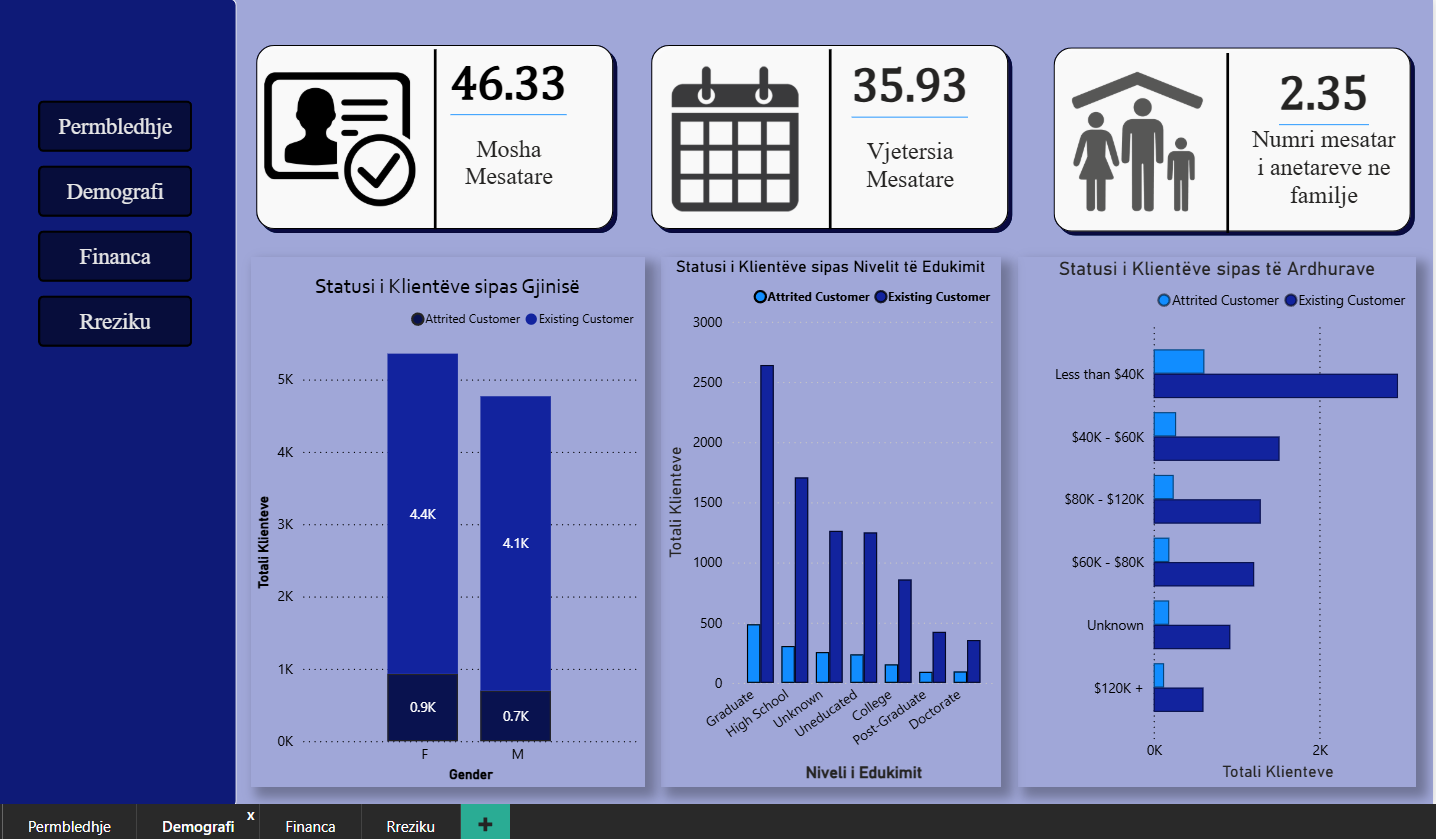

The dashboard page shown, as its layout file describes it:
{"tool":"powerbi","page":{"name":"Demografi","canvas":[1280,720],"ordinal":1},"visuals":[{"type":"group","id":"g1","title":"Group 1","box":[0,0,215.7,720],"z":0},{"type":"shape","box":[0,0,216.7,720.2],"z":0,"group":"g1"},{"type":"group","id":"g2","title":"Group 3","box":[228.8,36.2,327.5,173.8],"z":0,"group":"g6"},{"type":"group","id":"g3","title":"Group 2","box":[228.8,36.2,327.5,173.8],"z":0,"group":"g2"},{"type":"shape","box":[228.8,36.2,327.5,173.8],"z":0,"group":"g3"},{"type":"group","id":"g4","title":"Group 2","box":[580.4,36.2,327.5,173.8],"z":0,"group":"g7"},{"type":"shape","box":[580.4,36.2,327.5,173.8],"z":0,"group":"g4"},{"type":"group","id":"g5","title":"Group 2","box":[937.6,38.7,327.5,173.8],"z":0,"group":"g8"},{"type":"shape","box":[937.6,38.7,327.5,173.8],"z":0,"group":"g5"},{"type":"group","id":"g6","title":"Group 4","box":[228.8,36.2,1036.2,176.2],"z":1000},{"type":"group","id":"g7","title":"Group 3","box":[580.4,36.2,327.5,173.8],"z":1000,"group":"g6"},{"type":"shape","box":[288.3,45,208.4,160],"z":1000,"group":"g2"},{"type":"shape","box":[639.9,45,208.4,160],"z":1000,"group":"g7"},{"type":"shape","box":[993.6,48.4,208.4,160],"z":1000,"group":"g8"},{"type":"image","box":[240.8,55.3,134.7,140],"z":1000,"group":"g3"},{"type":"image","box":[592.4,55.3,134.7,140],"z":1000,"group":"g4"},{"type":"image","box":[949.6,57.8,134.7,140],"z":1000,"group":"g5"},{"type":"actionButton","box":[40.3,91.4,137.1,45.7],"z":1000,"group":"g1"},{"type":"group","id":"g8","title":"Group 3","box":[937.6,38.7,327.5,173.8],"z":2000,"group":"g6"},{"type":"textbox","box":[386.2,48.8,143.8,128.8],"z":2000},{"type":"actionButton","box":[40.3,148.6,137.1,45.7],"z":2000,"group":"g1"},{"type":"textbox","box":[743.8,51.2,143.8,140],"z":3000},{"type":"actionButton","box":[40.3,207.1,137.1,45.7],"z":3000,"group":"g1"},{"type":"textbox","box":[1111.2,57.5,143.8,153.8],"z":4000},{"type":"actionButton","box":[40.3,264.3,137.1,45.7],"z":4000,"group":"g1"},{"type":"columnChart","title":"Statusi i Klientëve sipas Gjinisë","fields":{"Category":["BankChurners.Gender"],"Y":["BankChurners.Totali Klienteve"],"Series":["BankChurners.Attrition_Flag"]},"box":[228.8,230,350,471.2],"z":5000},{"type":"clusteredBarChart","title":"Statusi i Klientëve sipas të Ardhurave","fields":{"Category":["BankChurners.Income_Category"],"Y":["BankChurners.Totali Klienteve"],"Series":["BankChurners.Attrition_Flag"]},"box":[911.2,230,353.8,471.2],"z":6000},{"type":"clusteredColumnChart","title":"Statusi i Klientëve sipas Nivelit të Edukimit","fields":{"Category":["BankChurners.Education_Level"],"Y":["BankChurners.Totali Klienteve"],"Series":["BankChurners.Attrition_Flag"]},"box":[593.8,230,302.5,471.2],"z":7000}]}

Visuals, with their boxes on the page's 1280x720 design canvas (x1, y1, x2, y2). These are canvas units, not pixel positions in the 1436x839 screenshot, which may show the page scaled, cropped or inside an application window:
"Group 1" group: (0, 0, 216, 720)
shape: (0, 0, 217, 720)
"Group 3" group: (229, 36, 556, 210)
"Group 2" group: (229, 36, 556, 210)
shape: (229, 36, 556, 210)
"Group 2" group: (580, 36, 908, 210)
shape: (580, 36, 908, 210)
"Group 2" group: (938, 39, 1265, 212)
shape: (938, 39, 1265, 212)
"Group 4" group: (229, 36, 1265, 212)
"Group 3" group: (580, 36, 908, 210)
shape: (288, 45, 497, 205)
shape: (640, 45, 848, 205)
shape: (994, 48, 1202, 208)
image: (241, 55, 376, 195)
image: (592, 55, 727, 195)
image: (950, 58, 1084, 198)
actionButton: (40, 91, 177, 137)
"Group 3" group: (938, 39, 1265, 212)
textbox: (386, 49, 530, 178)
actionButton: (40, 149, 177, 194)
textbox: (744, 51, 888, 191)
actionButton: (40, 207, 177, 253)
textbox: (1111, 58, 1255, 211)
actionButton: (40, 264, 177, 310)
"Statusi i Klientëve sipas Gjinisë" columnChart: (229, 230, 579, 701)
"Statusi i Klientëve sipas të Ardhurave" clusteredBarChart: (911, 230, 1265, 701)
"Statusi i Klientëve sipas Nivelit të Edukimit" clusteredColumnChart: (594, 230, 896, 701)
